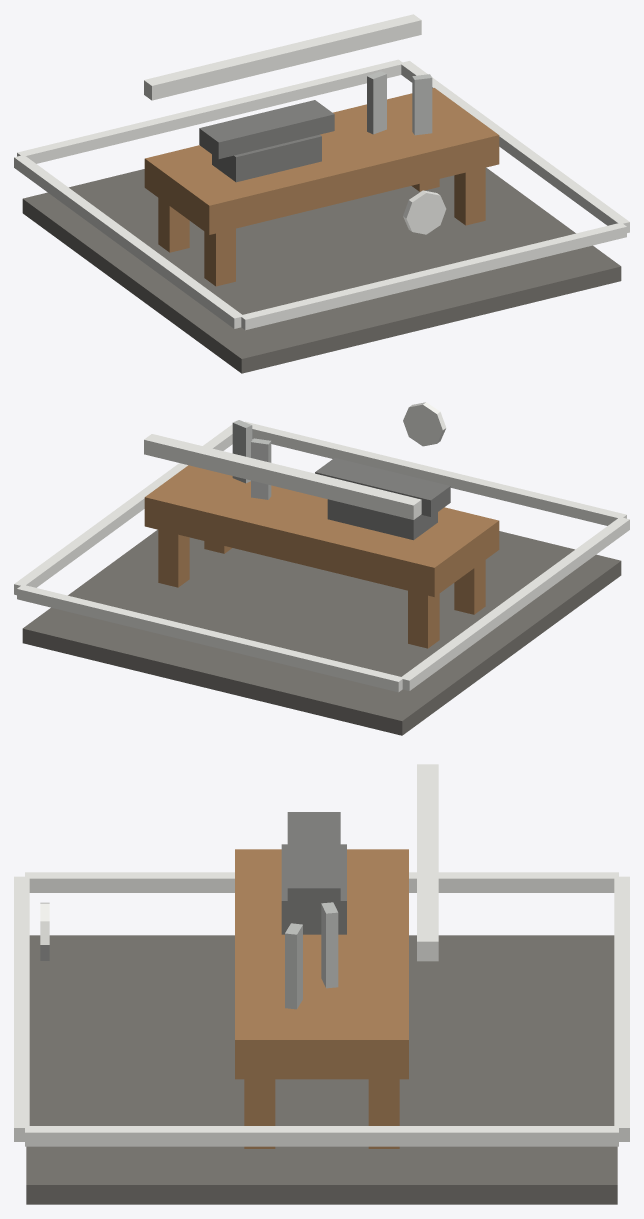
File: t8_toolmaker.glb
The picture shows the model from 3 angles, top to bottom: view 1: azimuth 30°, elevation 25°; view 2: azimuth 150°, elevation 25°; view 3: azimuth 270°, elevation 25°; orthographic projection. The views are drawn at different scales.
Visible parts, largest first — view 1: FootprintBase, Workbench, TierFrontTrim, ToolRack, TierBackTrim, TierLeftTrim, AnvilTop, TierRightTrim, AnvilBody, BenchLeg, BenchLeg.002, TierEmblem (+3 smaller); view 2: FootprintBase, Workbench, TierBackTrim, ToolRack, TierFrontTrim, TierLeftTrim, TierRightTrim, AnvilTop, AnvilBody, BenchLeg.001, BenchLeg.003, TierEmblem (+3 smaller); view 3: FootprintBase, Workbench, TierRightTrim, TierLeftTrim, AnvilTop, ToolRack, TierBackTrim, TierFrontTrim, AnvilBody, BenchLeg.002, BenchLeg.003, ToolBlankA (+1 smaller).
Boxes of the visible parts, box(x1,y1,x2,y2) form: FootprintBase: box(22, 167, 621, 373); Workbench: box(144, 88, 499, 234); TierFrontTrim: box(240, 222, 626, 330); ToolRack: box(144, 14, 421, 100); TierBackTrim: box(17, 59, 403, 163); TierLeftTrim: box(14, 155, 243, 328); AnvilTop: box(199, 100, 334, 158); TierRightTrim: box(400, 61, 629, 232); AnvilBody: box(212, 134, 321, 182); BenchLeg: box(204, 228, 235, 286); BenchLeg.002: box(454, 167, 485, 225); TierEmblem: box(403, 190, 446, 234); FootprintBase: box(22, 529, 621, 735); Workbench: box(144, 465, 499, 596); TierBackTrim: box(17, 584, 403, 692); ToolRack: box(144, 434, 421, 519); TierFrontTrim: box(245, 421, 626, 525); TierLeftTrim: box(402, 517, 629, 690); TierRightTrim: box(14, 424, 232, 595); AnvilTop: box(315, 458, 450, 516); AnvilBody: box(327, 499, 437, 540); BenchLeg.001: box(408, 590, 439, 648); BenchLeg.003: box(158, 530, 189, 587); TierEmblem: box(403, 402, 446, 446); FootprintBase: box(26, 935, 617, 1204); Workbench: box(235, 849, 408, 1079); TierRightTrim: box(25, 1126, 618, 1146); TierLeftTrim: box(25, 872, 618, 892); AnvilTop: box(287, 812, 340, 910); ToolRack: box(417, 764, 438, 961); TierBackTrim: box(614, 876, 629, 1141); TierFrontTrim: box(14, 876, 29, 1141); AnvilBody: box(281, 844, 346, 934); BenchLeg.002: box(244, 1079, 275, 1148); BenchLeg.003: box(368, 1079, 399, 1148); ToolBlankA: box(321, 902, 338, 988).
Bounding box in the file's own units: 3.96 × 1.61 × 3.96.
